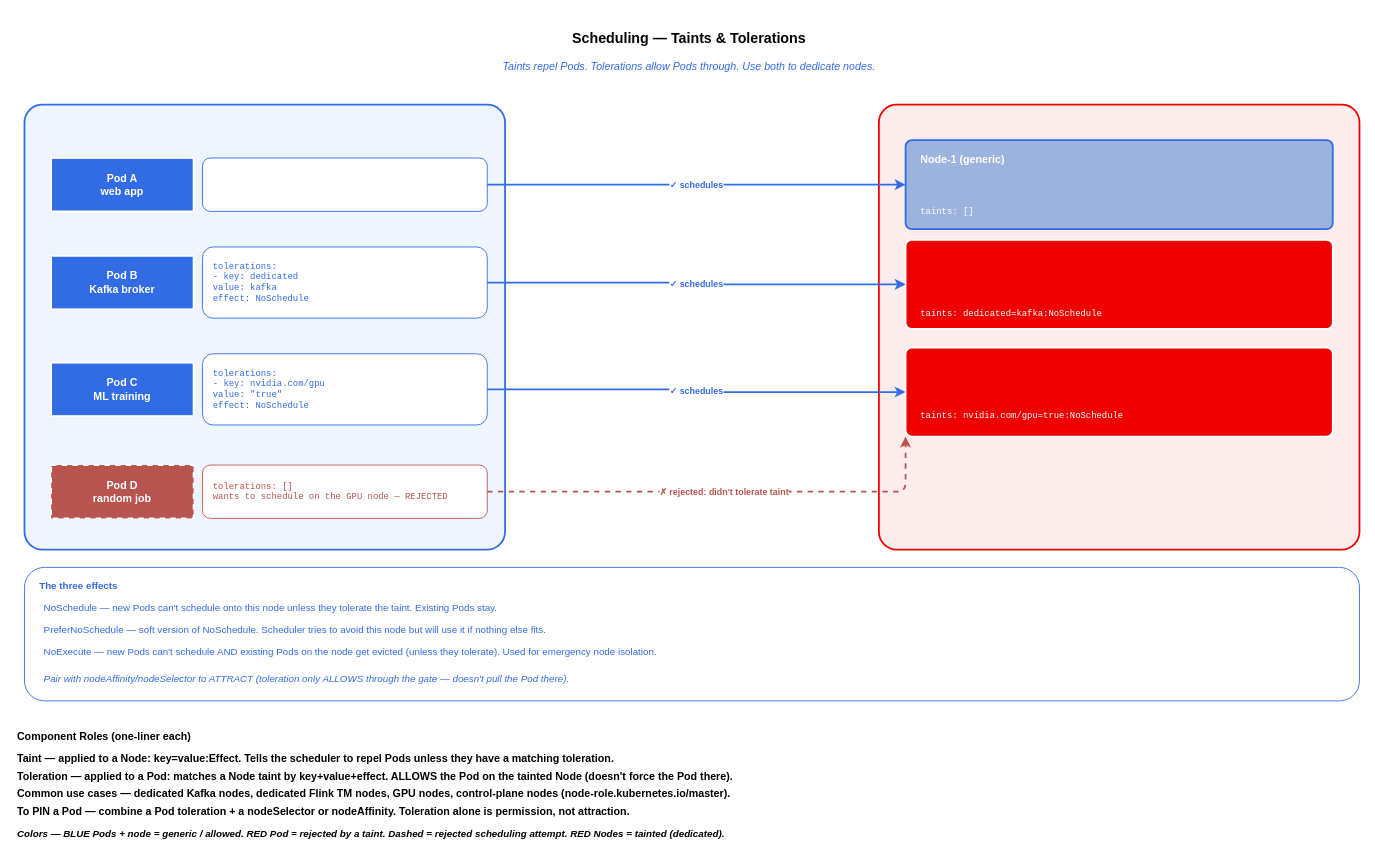
Some shapes in this 1375 by 858 pixel diagram are drawn without their labels. Each missing label, with the box of its shape:
Node-2 (Kafka-dedicated): (904, 239, 1333, 329)
Node-3 (GPU): (904, 346, 1333, 437)
Nodes (with their taints): (878, 103, 1360, 550)
Pods (with their tolerations): (23, 103, 506, 550)
tolerations: [] (no special tolerations): (202, 157, 487, 211)
